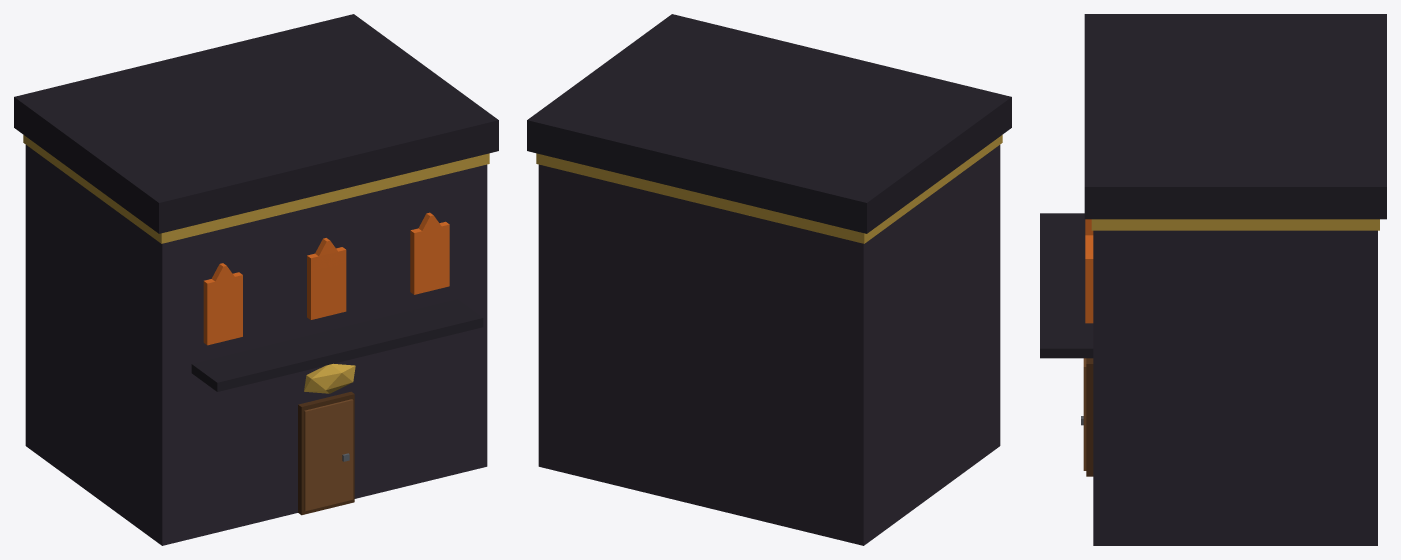
The model's file is demon_house_b.glb.
3 views of the same model, side by side, from view 1: azimuth 30°, elevation 25°; view 2: azimuth 150°, elevation 25°; view 3: azimuth 270°, elevation 25° (orthographic). The views are drawn at different scales.
Parts seen in each view (by area): view 1: demon_house_b; view 2: demon_house_b; view 3: demon_house_b.
Part boxes in pixels (<box>): demon_house_b: <box>14,14,498,545</box>; demon_house_b: <box>527,14,1011,545</box>; demon_house_b: <box>1040,14,1386,545</box>.
Size of the model in its own units: 2.3 by 2.25 by 1.95.
